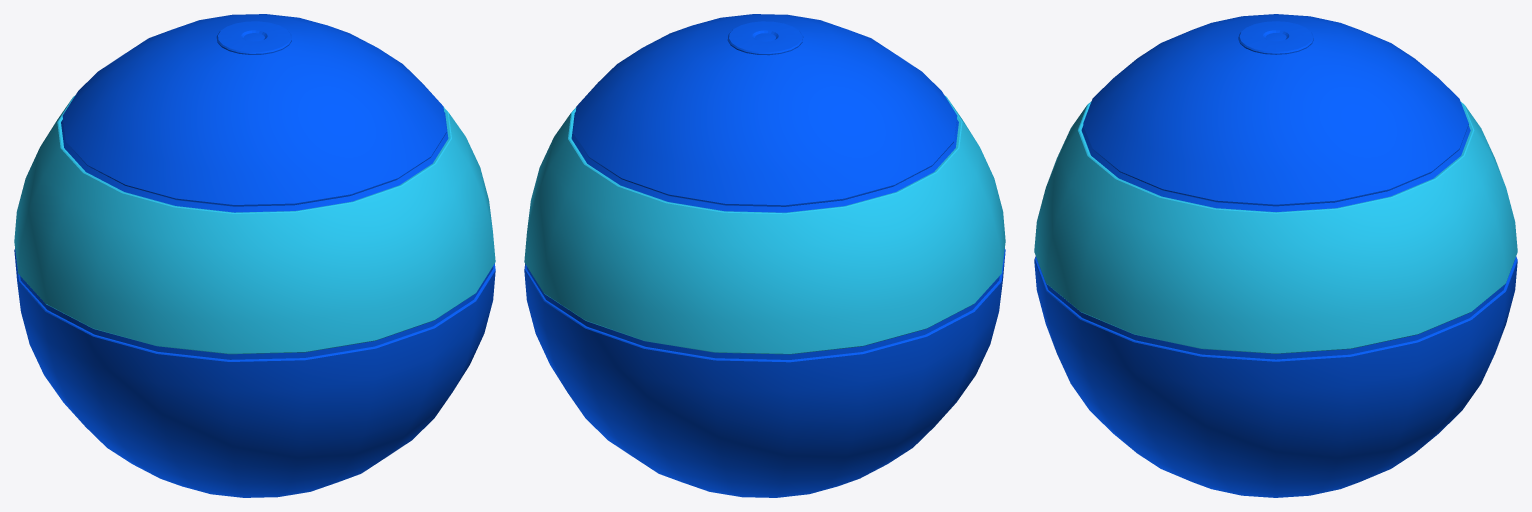
The model's file is Blue_Incubator_01.8a4a570d.gltf.
The picture shows the model from 3 angles, left to right: view 1: azimuth 30°, elevation 25°; view 2: azimuth 150°, elevation 25°; view 3: azimuth 270°, elevation 25°; orthographic projection.
Parts seen in each view (by area): view 1: pSphere3.004; view 2: pSphere3.004; view 3: pSphere3.004.
Boxes of the visible parts, x1,y1,x2,y2 form: pSphere3.004: [14, 14, 495, 497]; pSphere3.004: [524, 14, 1005, 497]; pSphere3.004: [1034, 14, 1517, 497].
Size of the model in its own units: 4.98 by 5 by 4.98.
